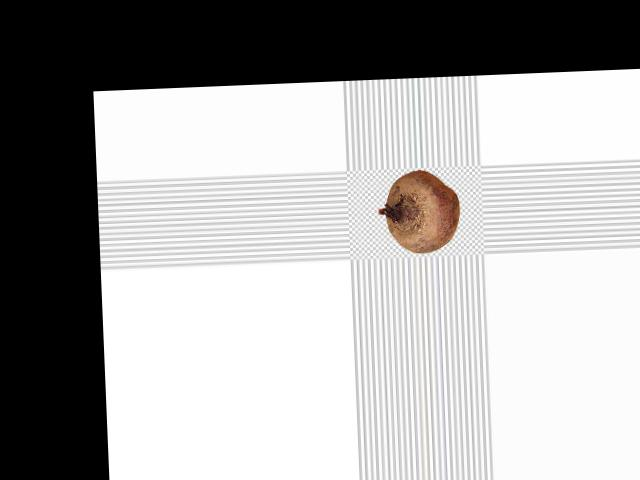beet: (376, 168, 460, 254)
